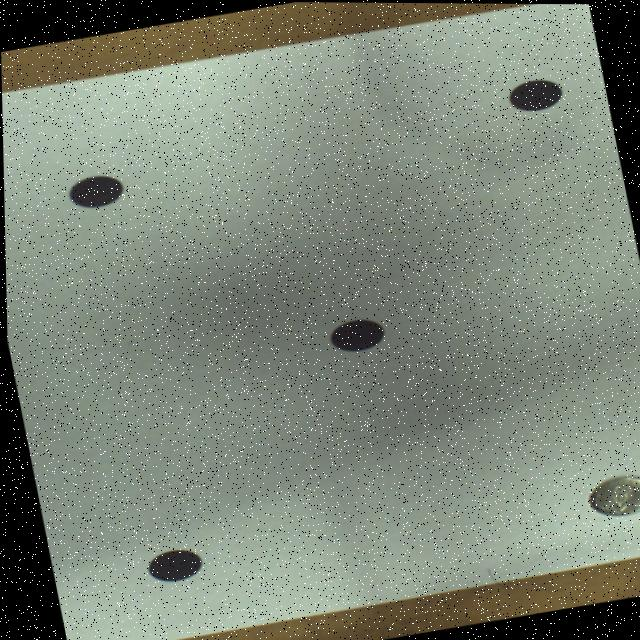space: (327, 319, 382, 351), (145, 549, 198, 581), (507, 78, 560, 110), (68, 175, 121, 207)
tail1bath: (587, 475, 640, 515)
